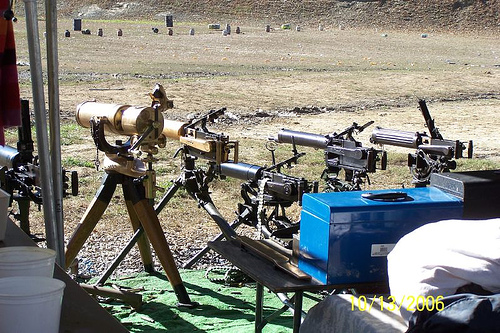rifle: (279, 125, 381, 174), (375, 124, 476, 162)
